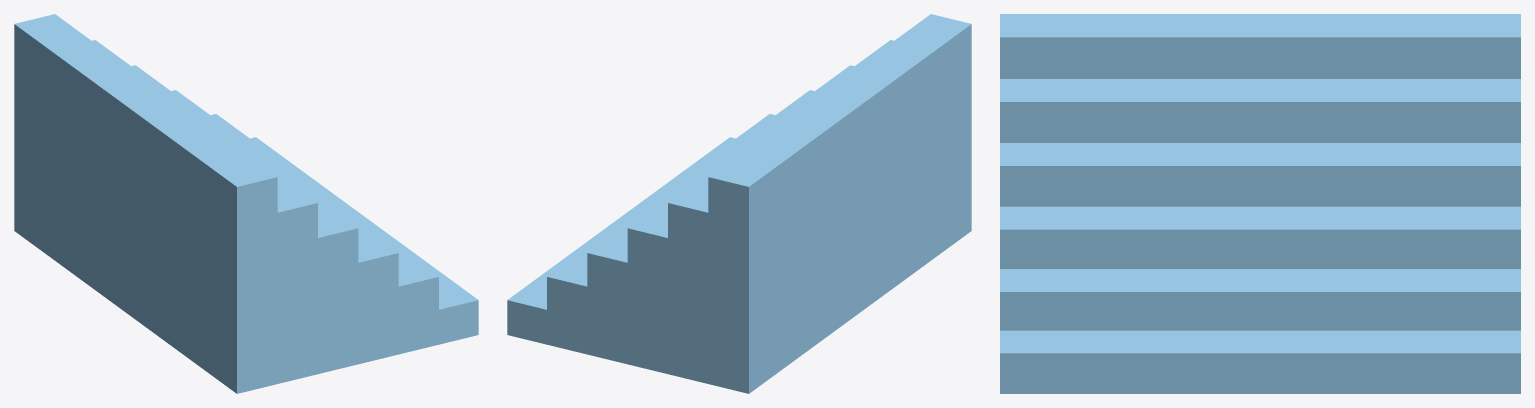
The model's file is Arquibancada.fbx.
3 views of the same model, side by side, from view 1: azimuth 30°, elevation 25°; view 2: azimuth 150°, elevation 25°; view 3: azimuth 270°, elevation 25° (orthographic). The views are drawn at different scales.
Visible parts, largest first — view 1: Cube; view 2: Cube; view 3: Cube.
Boxes of the visible parts, box(x1,y1,x2,y2) form: Cube: box(14, 14, 478, 393); Cube: box(507, 14, 971, 393); Cube: box(1000, 14, 1520, 393).
Size of the model in its own units: 1452 by 1188 by 2318.
